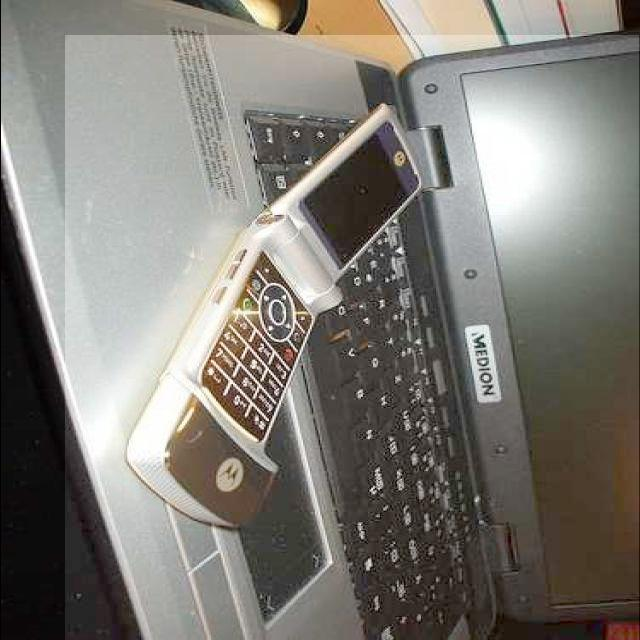-keyboard-: (65, 35, 639, 640)
